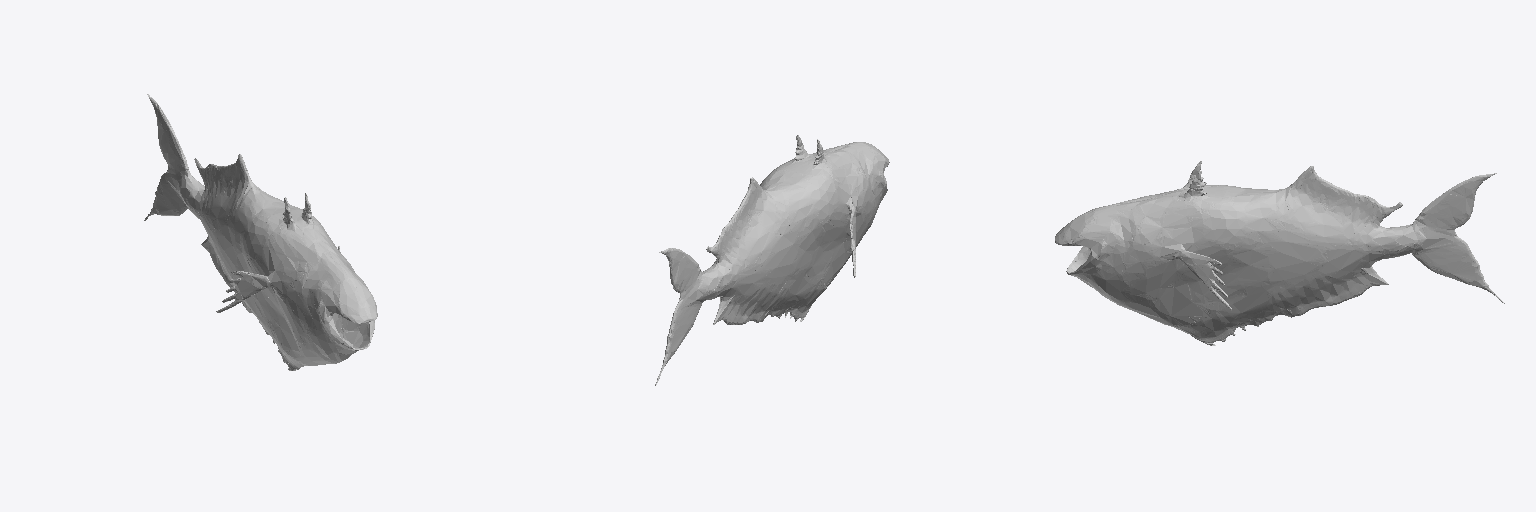
Rendered from Fish3.obj.
The picture shows the model from 3 angles: view 1: azimuth 30°, elevation 25°; view 2: azimuth 150°, elevation 25°; view 3: azimuth 270°, elevation 25°; orthographic projection.
Parts seen in each view (by area): view 1: mmGroup0; view 2: mmGroup0; view 3: mmGroup0.
Part boxes in pixels (x1,y1,x2,y2): mmGroup0: (144, 94, 377, 370); mmGroup0: (655, 135, 889, 385); mmGroup0: (1055, 161, 1504, 345).
Size of the model in its own units: 40.33 by 54.56 by 124.